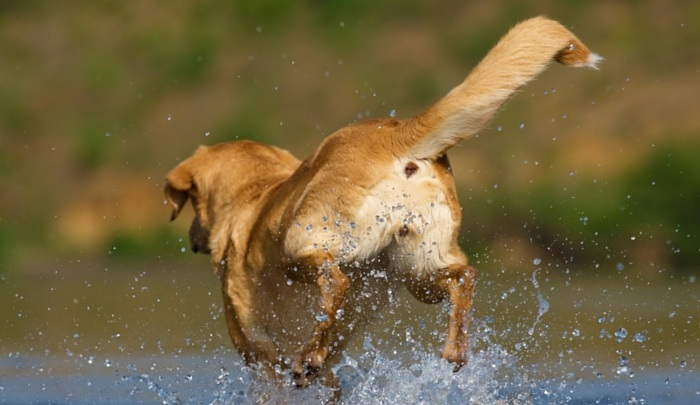tail: (404, 13, 602, 182)
